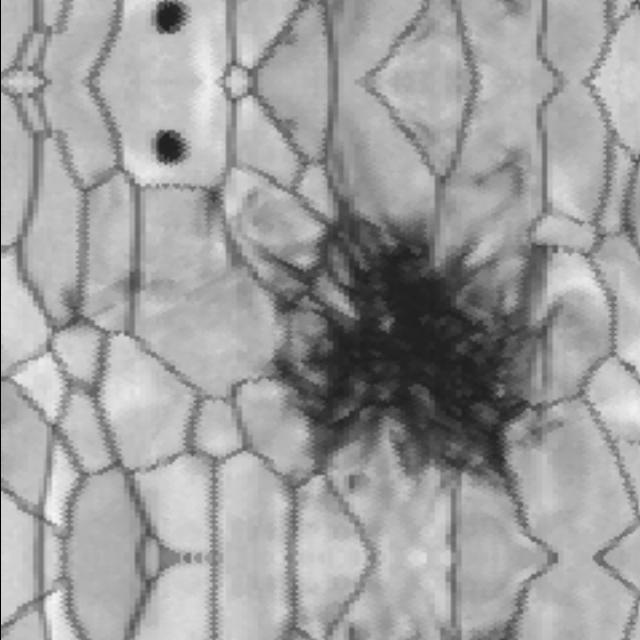good_void: (248, 175, 576, 487), (454, 128, 537, 207), (187, 165, 242, 234), (50, 283, 110, 340), (464, 0, 536, 37), (148, 120, 196, 173), (111, 260, 160, 308), (148, 0, 196, 44), (340, 467, 365, 495), (340, 623, 363, 640)
